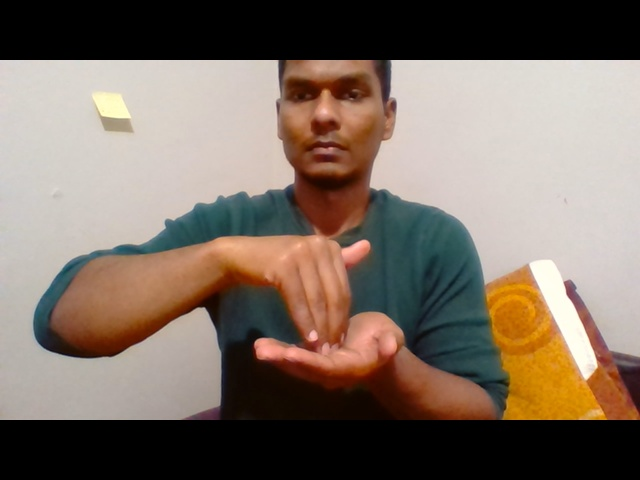ExcuseMe: (210, 231, 410, 394)
